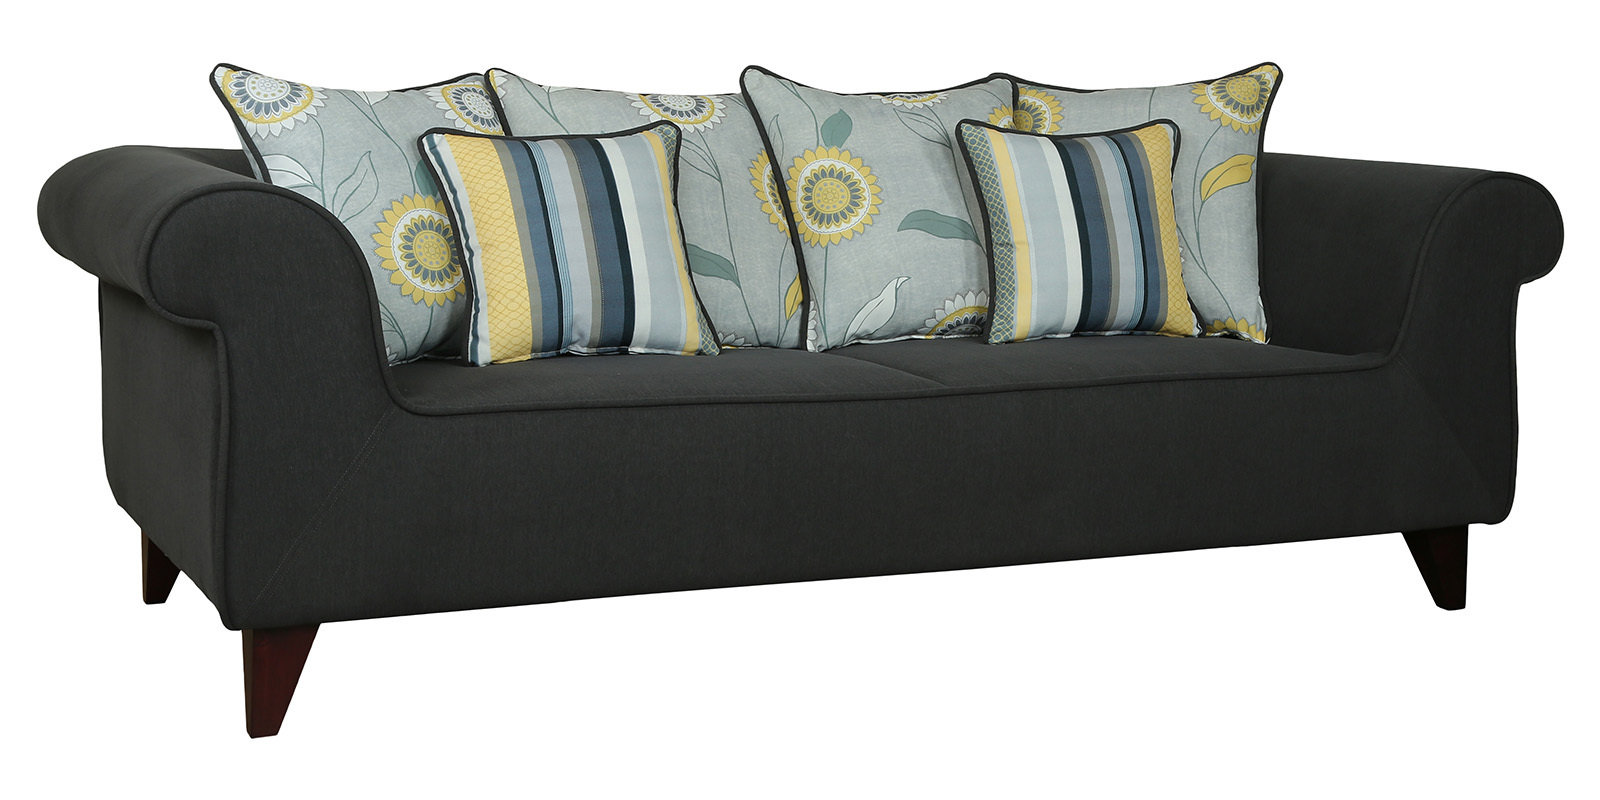Cielo Three Seater Sofa in Charcoal Grey Colour by CasaCraft: (17, 67, 1573, 674)
